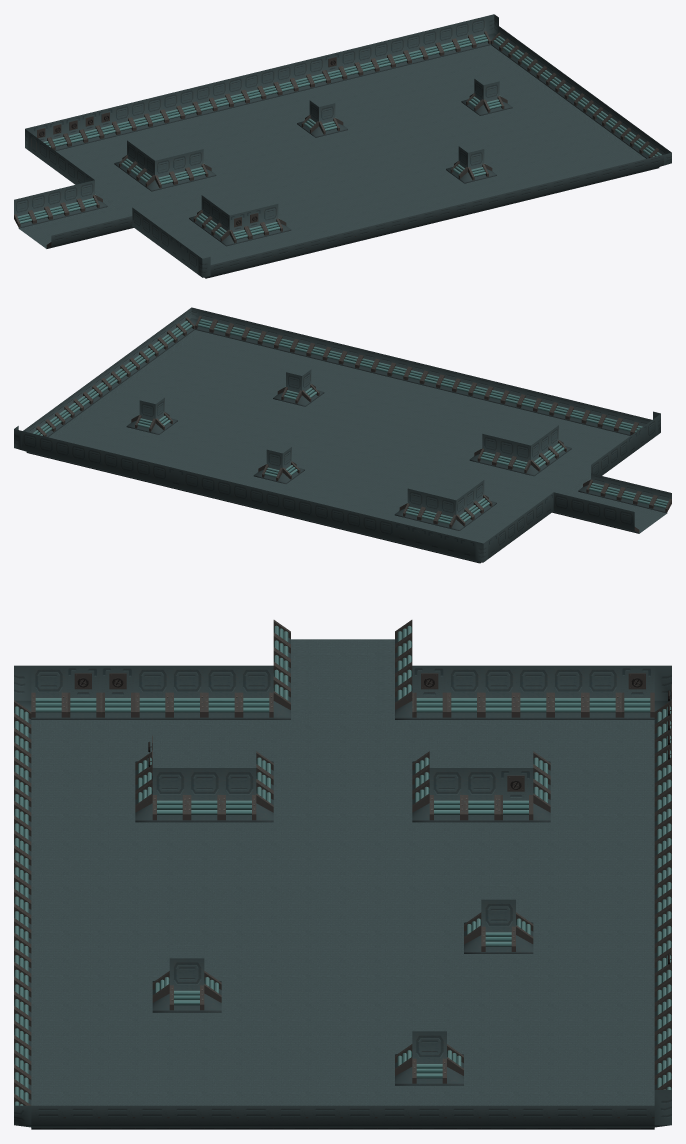
Rendered from MK_Ship_Room5.fbx.
3 views of the same model, one above another, from view 1: azimuth 30°, elevation 25°; view 2: azimuth 150°, elevation 25°; view 3: azimuth 270°, elevation 25° (orthographic). The views are drawn at different scales.
Visible parts, largest first — view 1: MK_Ship_Wall370, MK_Ship_Wall395, MK_Ship_Wall298, MK_Ship_Wall385, MK_Ship_Wall403, MK_Ship_Wall397, MK_Ship_Wall300, MK_Ship_Wall328, MK_Ship_Wall325, MK_Ship_Wall331, MK_Ship_Wall345, MK_Ship_Wall383 (+29 smaller); view 2: MK_Ship_Wall392, MK_Ship_Wall400, MK_Ship_Wall379, MK_Ship_Wall405, MK_Ship_Wall399, MK_Ship_Wall381, MK_Ship_Wall393, MK_Ship_Wall380, MK_Ship_Wall394; view 3: MK_Ship_Wall398, MK_Ship_Wall314, MK_Ship_Wall307, MK_Ship_Wall312, MK_Ship_Wall375, MK_Ship_Wall388, MK_Ship_Wall386, MK_Ship_Wall311, MK_Ship_Wall306, MK_Ship_Wall303, MK_Ship_Wall308, MK_Ship_Wall315 (+29 smaller).
Part boxes in pixels (<box>): MK_Ship_Wall370: <box>229,211,250,244</box>; MK_Ship_Wall395: <box>483,81,504,113</box>; MK_Ship_Wall298: <box>14,196,34,228</box>; MK_Ship_Wall385: <box>155,157,175,189</box>; MK_Ship_Wall403: <box>319,103,339,135</box>; MK_Ship_Wall397: <box>468,149,488,181</box>; MK_Ship_Wall300: <box>46,188,67,220</box>; MK_Ship_Wall328: <box>211,79,231,111</box>; MK_Ship_Wall325: <box>162,91,183,123</box>; MK_Ship_Wall331: <box>259,67,280,100</box>; MK_Ship_Wall345: <box>324,51,345,84</box>; MK_Ship_Wall383: <box>187,149,208,181</box>; MK_Ship_Wall392: <box>435,496,456,528</box>; MK_Ship_Wall400: <box>135,400,155,432</box>; MK_Ship_Wall379: <box>510,442,530,474</box>; MK_Ship_Wall405: <box>262,449,282,482</box>; MK_Ship_Wall399: <box>281,372,301,404</box>; MK_Ship_Wall381: <box>477,434,498,466</box>; MK_Ship_Wall393: <box>419,492,439,524</box>; MK_Ship_Wall380: <box>494,438,514,470</box>; MK_Ship_Wall394: <box>403,488,423,520</box>; MK_Ship_Wall398: <box>169,958,204,1012</box>; MK_Ship_Wall314: <box>100,665,135,719</box>; MK_Ship_Wall307: <box>550,665,585,719</box>; MK_Ship_Wall312: <box>169,665,204,719</box>; MK_Ship_Wall375: <box>221,768,256,822</box>; MK_Ship_Wall388: <box>498,768,533,822</box>; MK_Ship_Wall386: <box>429,768,464,822</box>; MK_Ship_Wall311: <box>204,665,238,719</box>; MK_Ship_Wall306: <box>516,665,550,719</box>; MK_Ship_Wall303: <box>412,665,446,719</box>; MK_Ship_Wall308: <box>585,665,619,719</box>; MK_Ship_Wall315: <box>66,665,100,719</box>.
Bounding box in the file's own units: 17 × 0.75 × 9.5.
9 materials, 9 textured.
